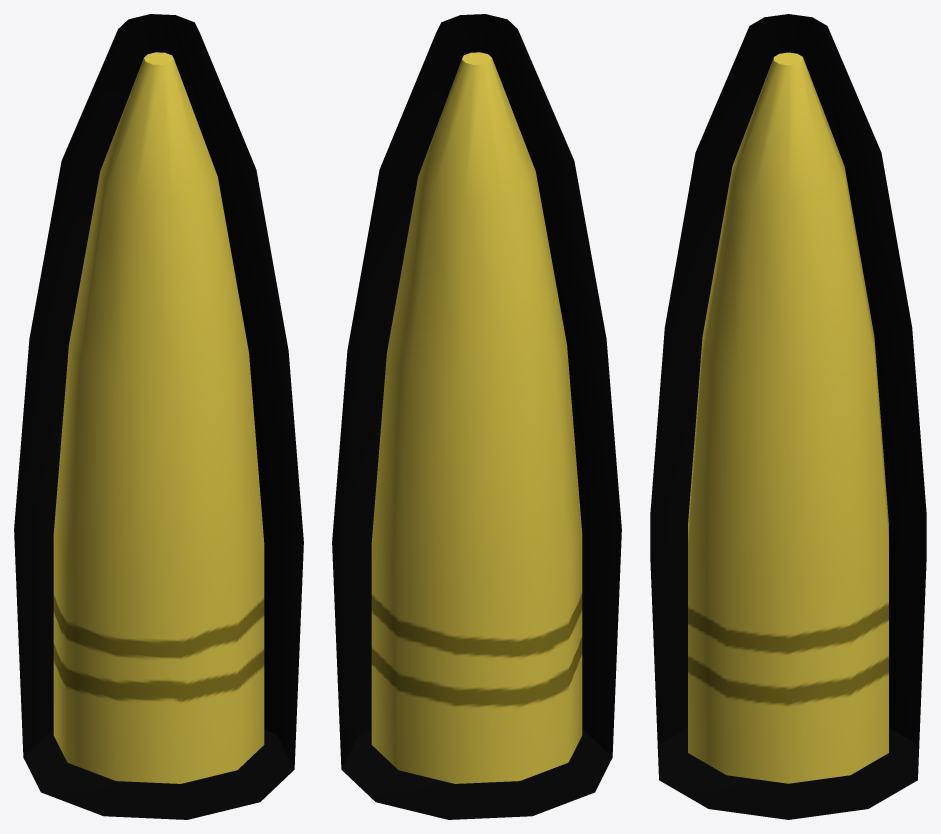
Rendered from bullet_45mm.fbx.
3 renders of one model, left to right at view 1: azimuth 30°, elevation 25°; view 2: azimuth 150°, elevation 25°; view 3: azimuth 270°, elevation 25°, orthographic.
Visible parts, largest first — view 1: pCylinder25 (×2); view 2: pCylinder25 (×2); view 3: pCylinder25 (×2).
Part boxes in pixels (x1,y1,x2,y2): pCylinder25 (×2): (14,14,303,819); pCylinder25 (×2): (332,14,621,819); pCylinder25 (×2): (650,14,926,819).
Size of the model in its own units: 3.21 by 9.16 by 3.05.
Materials: 2 (1 with a texture image).
